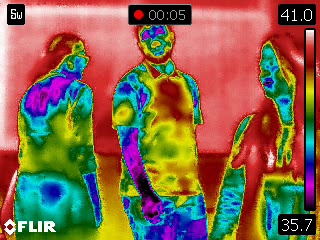human: (112, 25, 215, 240), (15, 32, 102, 240), (207, 45, 300, 215)
